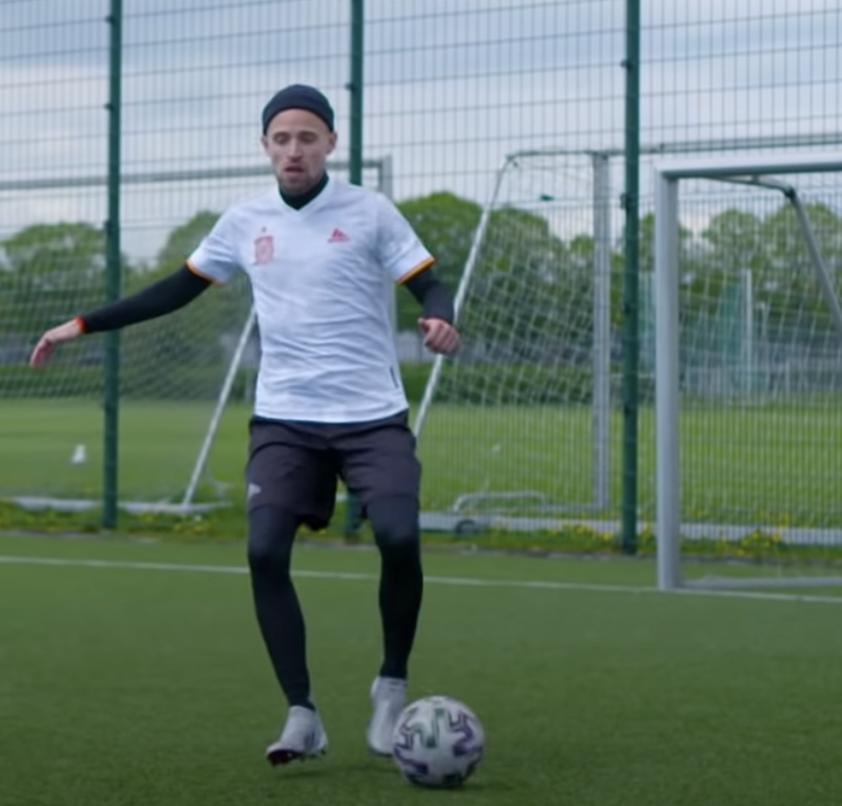ball: (391, 699, 486, 788)
foot: (263, 703, 333, 767), (366, 675, 409, 757)
person: (33, 78, 463, 765)
